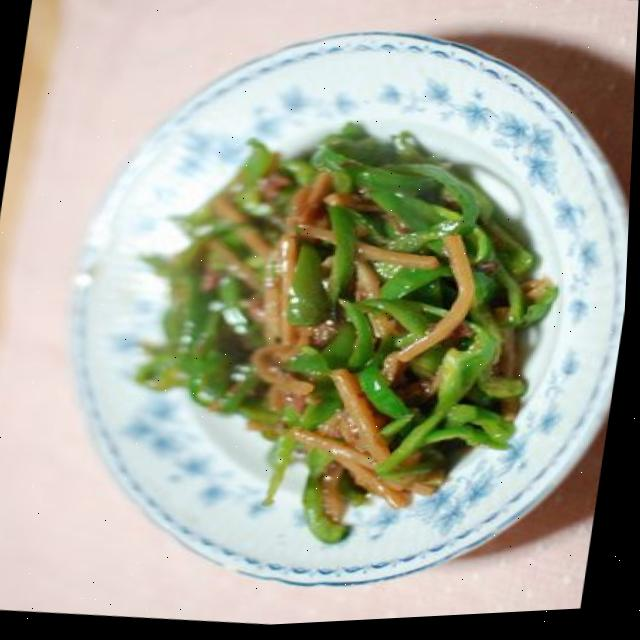牛肉菜式: (17, 0, 640, 638)
